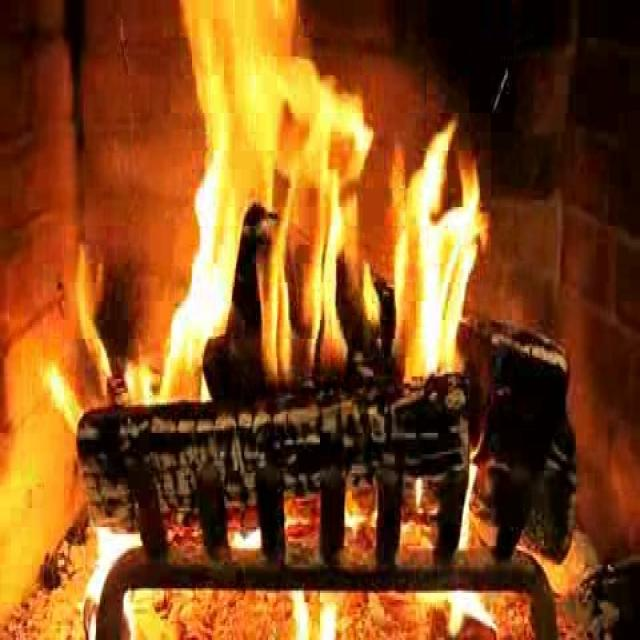fire: (168, 11, 486, 414)
